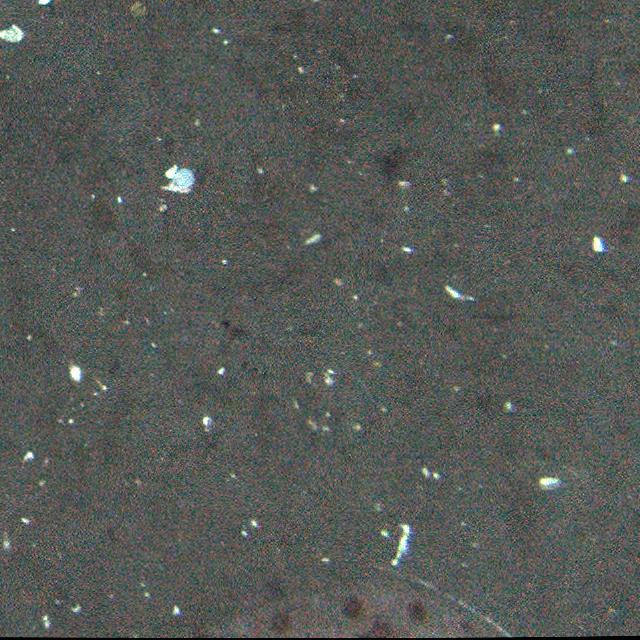skate: (190, 552, 528, 640)
